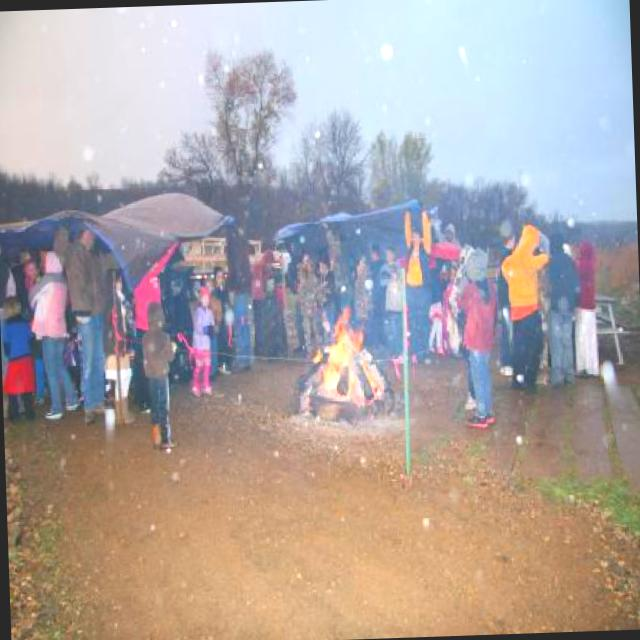Person: (0, 192, 599, 451), (506, 211, 562, 400)
